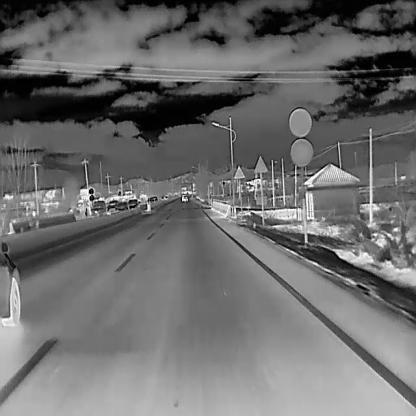car: (90, 200, 107, 216), (106, 199, 120, 213), (127, 198, 138, 209), (117, 202, 127, 211), (146, 195, 157, 202), (182, 193, 188, 201)
